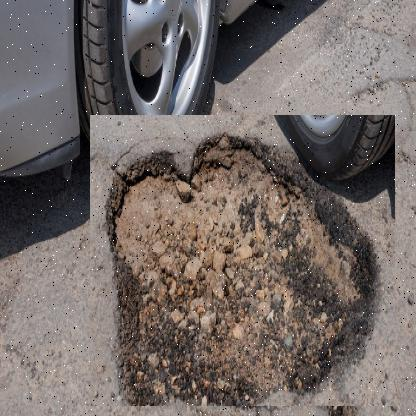pothole: (89, 115, 395, 407)
